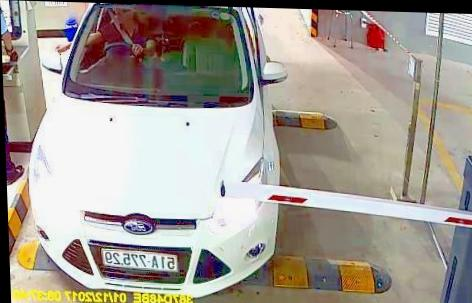License_Plate: (102, 247, 179, 272)
